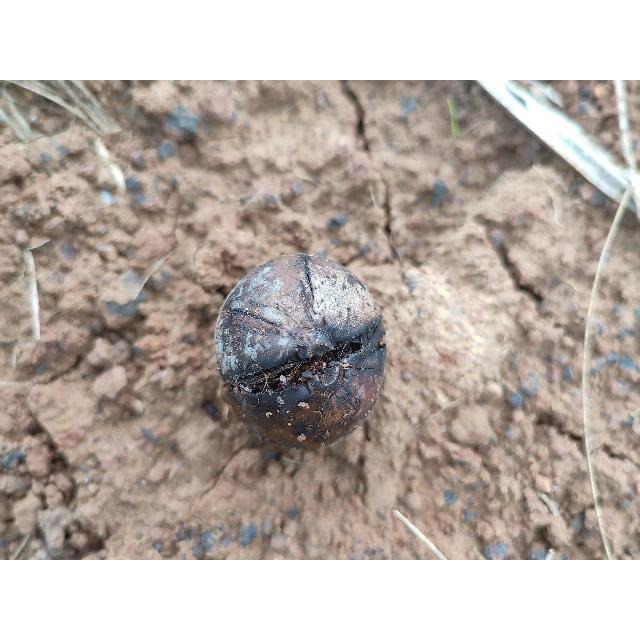damaged: (213, 253, 387, 448)
